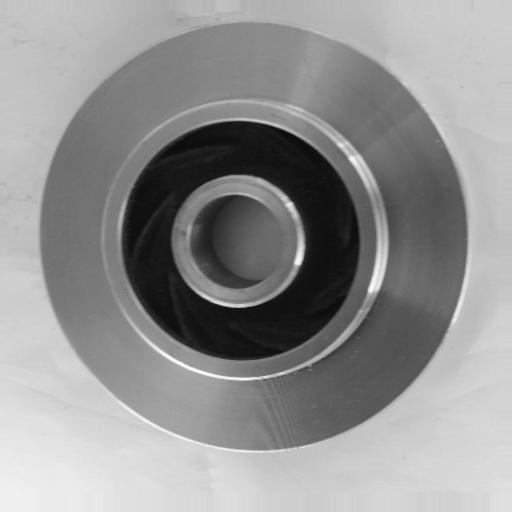polished_casting: (35, 20, 472, 456)
